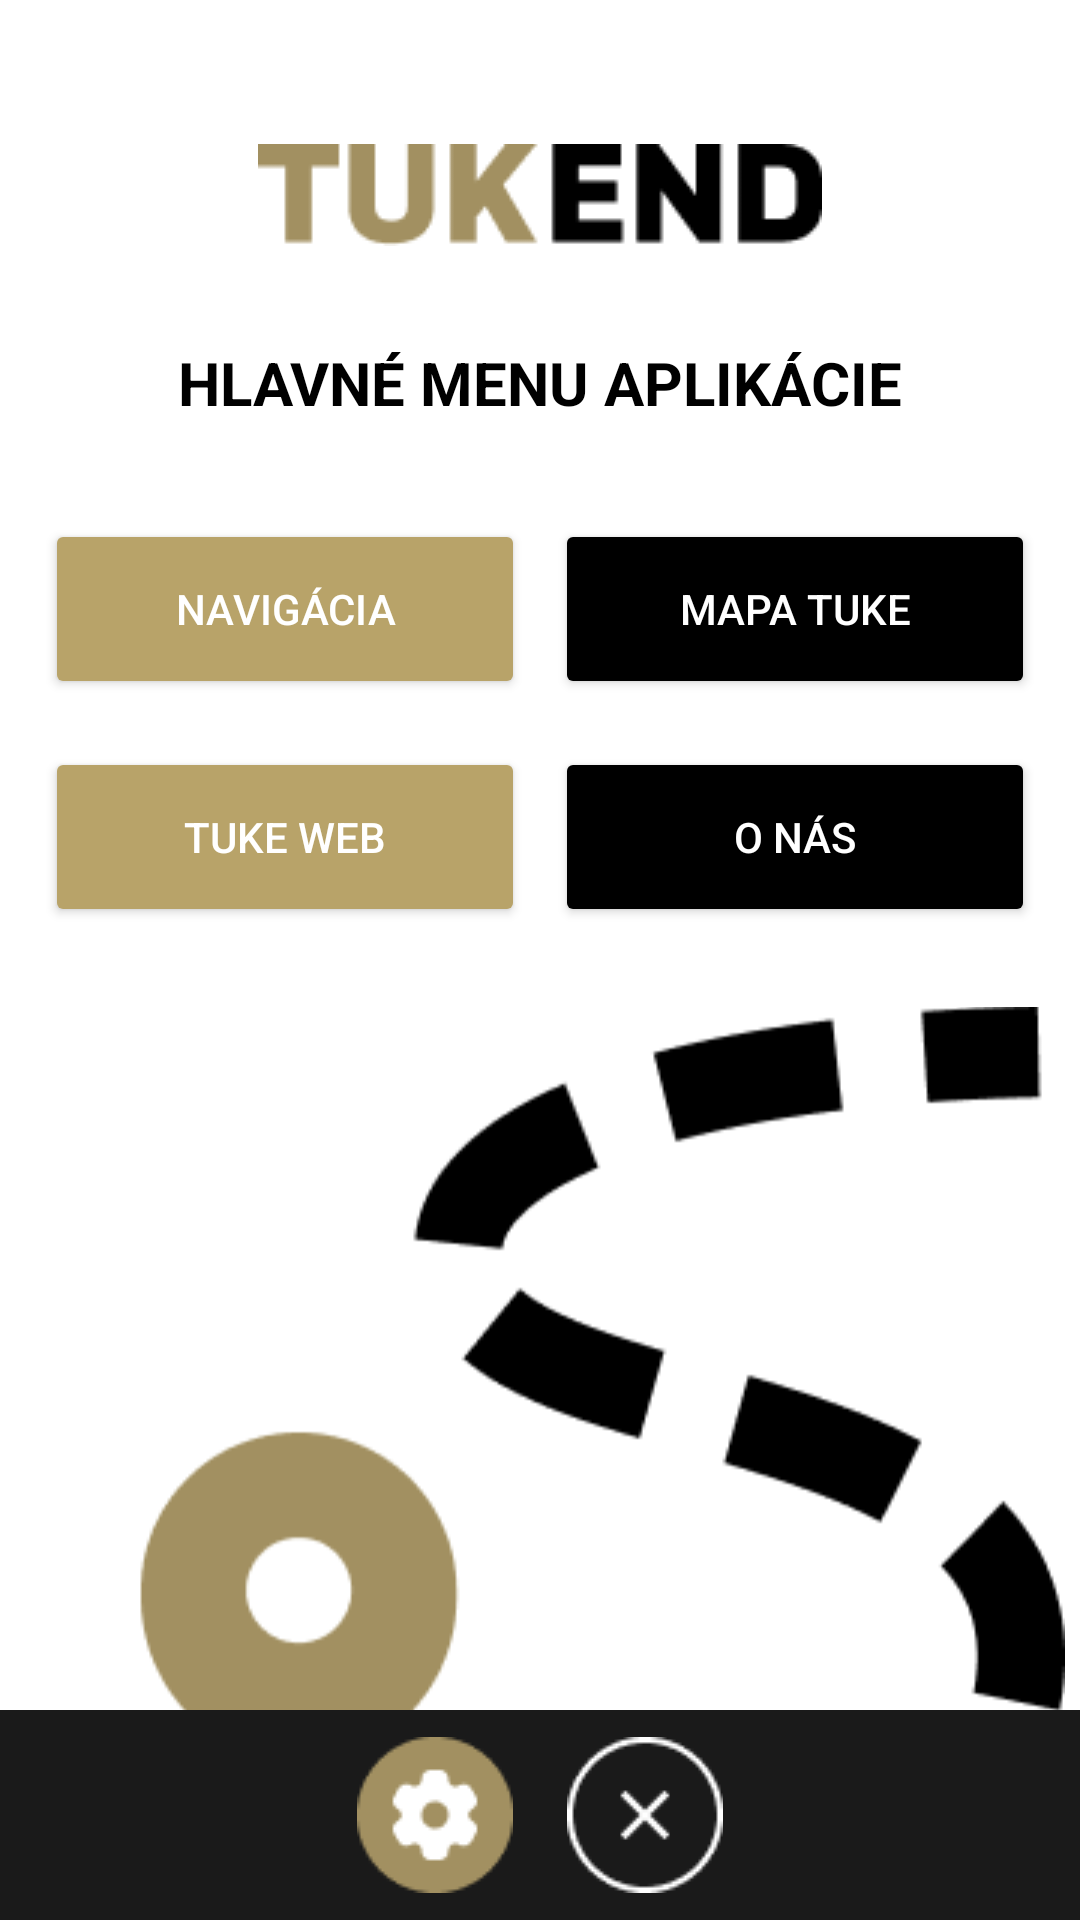

Where icons sit on this 1080*1920 app screen, as (x1=x1, y1=y1, x2=x2, y2=y2):
Close: (x1=567, y1=1737, x2=723, y2=1893)
Settings: (x1=357, y1=1737, x2=513, y2=1893)
